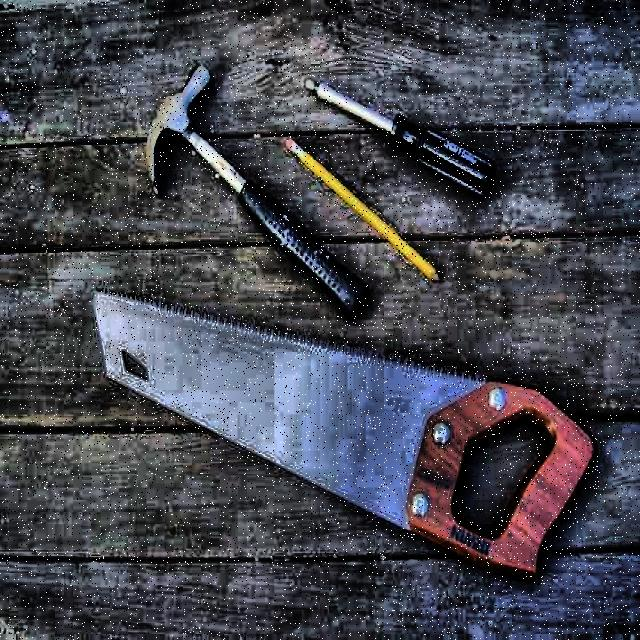hammer: (145, 61, 373, 321)
